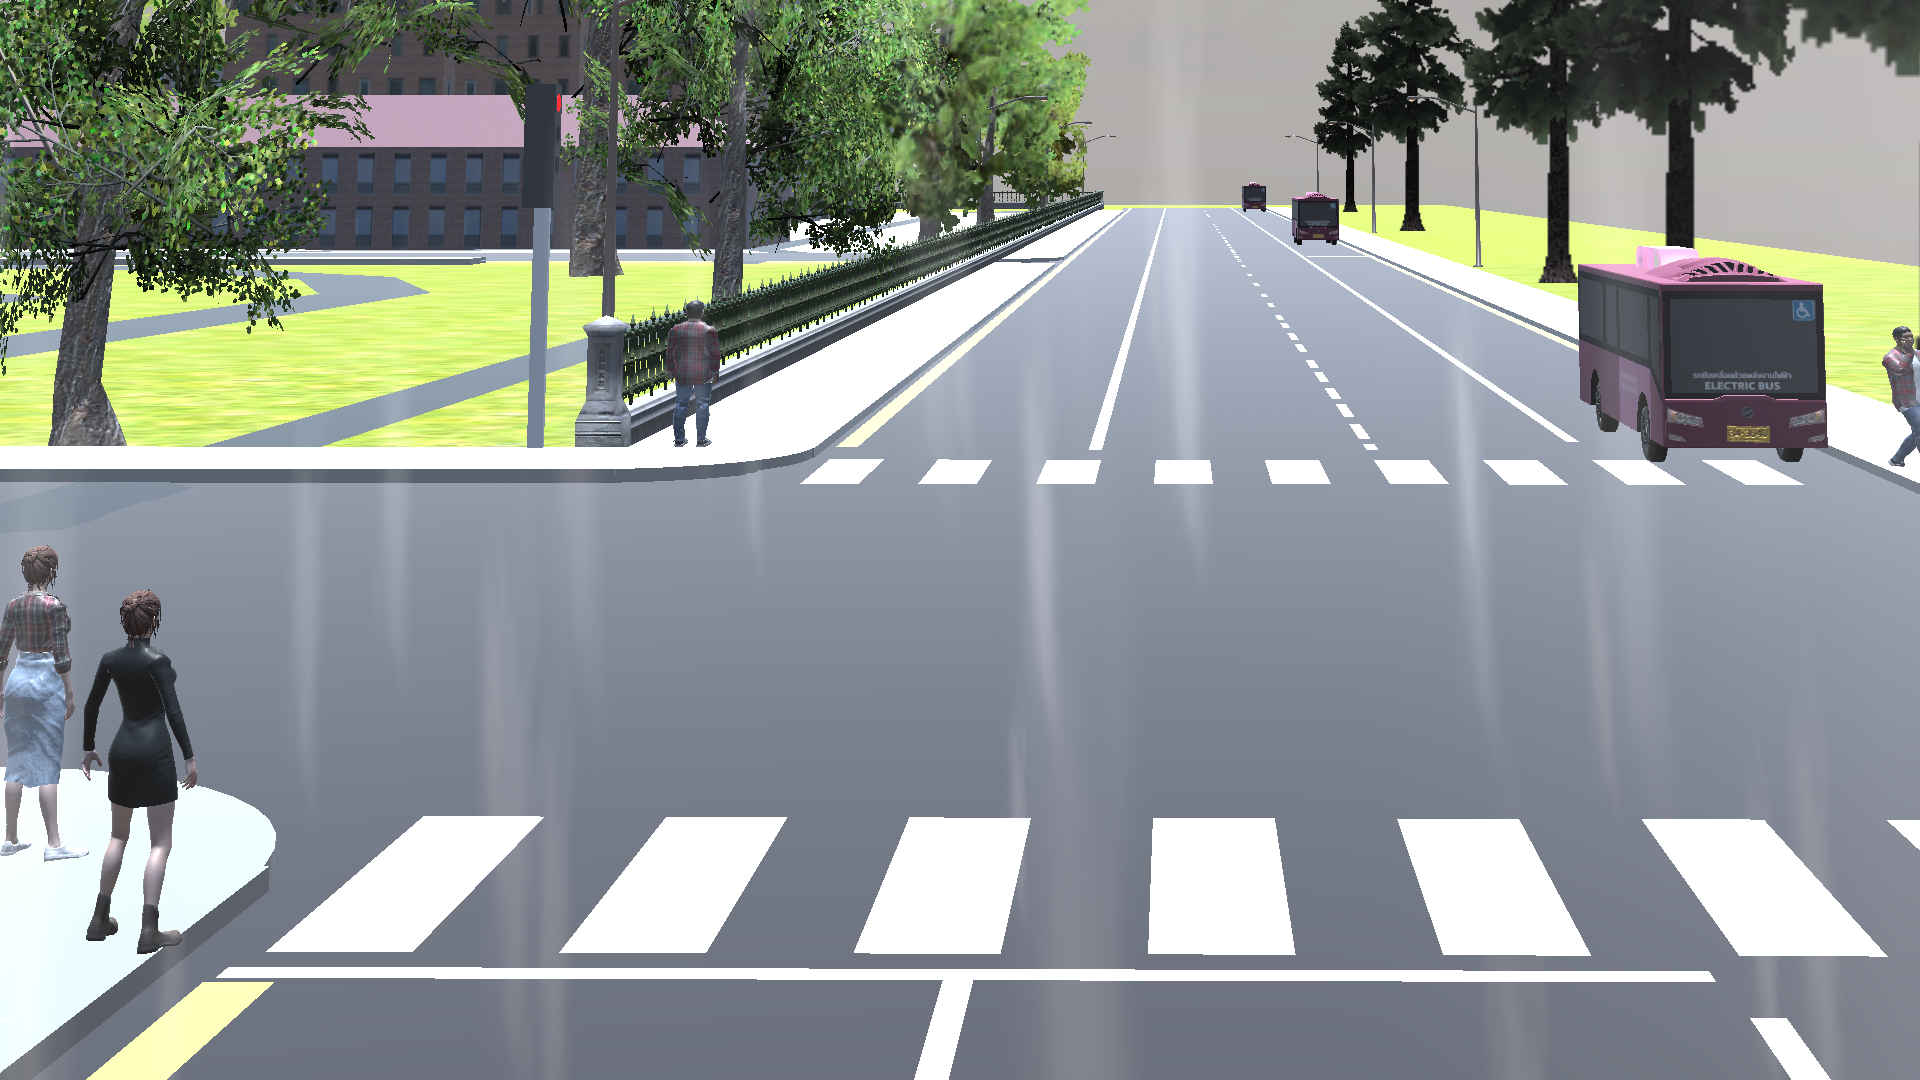pedestrian: (76, 582, 206, 955), (3, 545, 84, 875), (654, 297, 722, 455), (1881, 321, 1920, 478)
